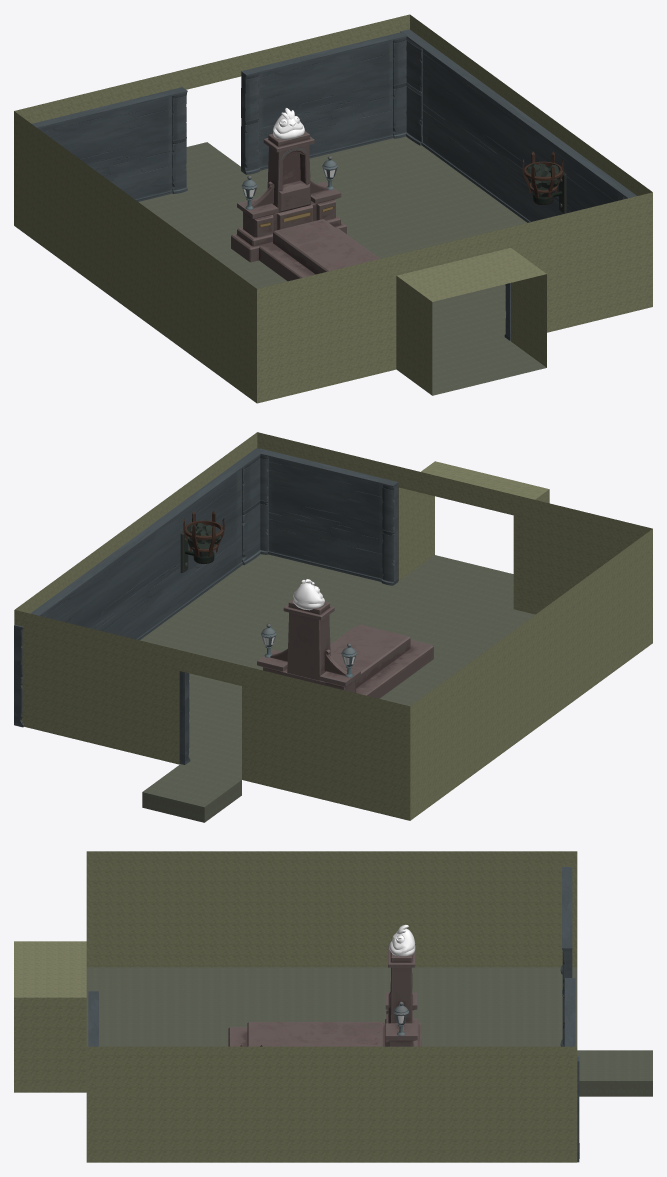
Rendered from ROOM_Enter (1).fbx.
3 views of the same model, one above another, from view 1: azimuth 30°, elevation 25°; view 2: azimuth 150°, elevation 25°; view 3: azimuth 270°, elevation 25° (orthographic).
Parts seen in each view (by area): view 1: ROOM_Enter__1_, Wall_Vertical__12_, Wall_Vertical__11_, Wall_Vertical__14_, graveTop, pillar, graveStructure, RoyalGraveStatic, graveStatue; view 2: ROOM_Enter__1_, Wall_Vertical__12_, Wall_Vertical__13_, pillar, graveTop, RoyalGraveStatic, graveStructure, Wall_Vertical__11_, graveStatue; view 3: ROOM_Enter__1_, graveTop, pillar, Wall_Vertical__14_, graveStructure, Wall_Vertical__11_, RoyalGraveStatic, graveStatue, Wall_Vertical__13_.
Boxes of the visible parts, left/top/right/bottom form: ROOM_Enter__1_: left=14, top=14, right=652, bottom=403; Wall_Vertical__12_: left=400, top=29, right=636, bottom=222; Wall_Vertical__11_: left=241, top=32, right=407, bottom=174; Wall_Vertical__14_: left=32, top=87, right=187, bottom=201; graveTop: left=273, top=219, right=377, bottom=274; pillar: left=263, top=131, right=314, bottom=212; graveStructure: left=237, top=181, right=341, bottom=237; RoyalGraveStatic: left=231, top=216, right=379, bottom=281; graveStatue: left=273, top=108, right=304, bottom=139; ROOM_Enter__1_: left=14, top=432, right=652, bottom=822; Wall_Vertical__12_: left=14, top=448, right=264, bottom=727; Wall_Vertical__13_: left=256, top=448, right=398, bottom=585; pillar: left=283, top=599, right=334, bottom=680; graveTop: left=330, top=624, right=410, bottom=688; RoyalGraveStatic: left=330, top=626, right=433, bottom=698; graveStructure: left=257, top=649, right=360, bottom=692; Wall_Vertical__11_: left=179, top=671, right=190, bottom=764; graveStatue: left=293, top=579, right=324, bottom=610; ROOM_Enter__1_: left=14, top=851, right=652, bottom=1162; graveTop: left=247, top=1022, right=383, bottom=1046; pillar: left=388, top=945, right=415, bottom=1023; Wall_Vertical__14_: left=560, top=867, right=572, bottom=1046; graveStructure: left=385, top=992, right=417, bottom=1046; Wall_Vertical__11_: left=565, top=978, right=575, bottom=1046; RoyalGraveStatic: left=228, top=1018, right=421, bottom=1046; graveStatue: left=389, top=924, right=415, bottom=956; Wall_Vertical__13_: left=88, top=991, right=98, bottom=1046.
Size of the model in its own units: 3975 by 1433 by 5500.
